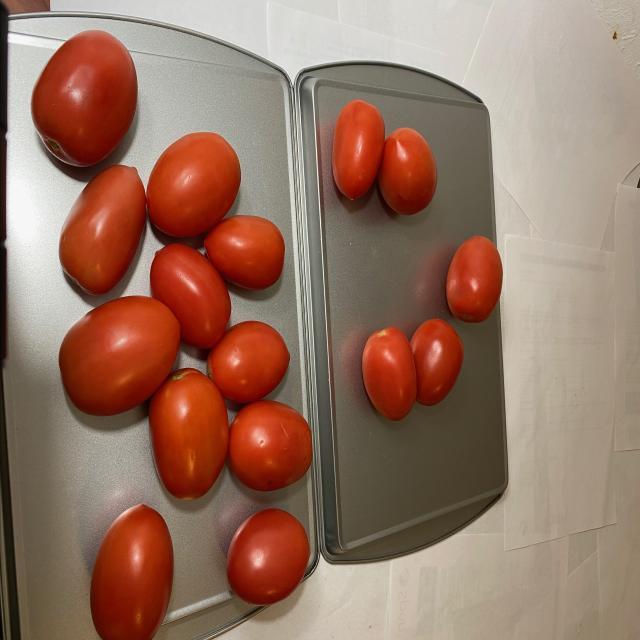tomato: (29, 25, 308, 637), (333, 90, 506, 422)
